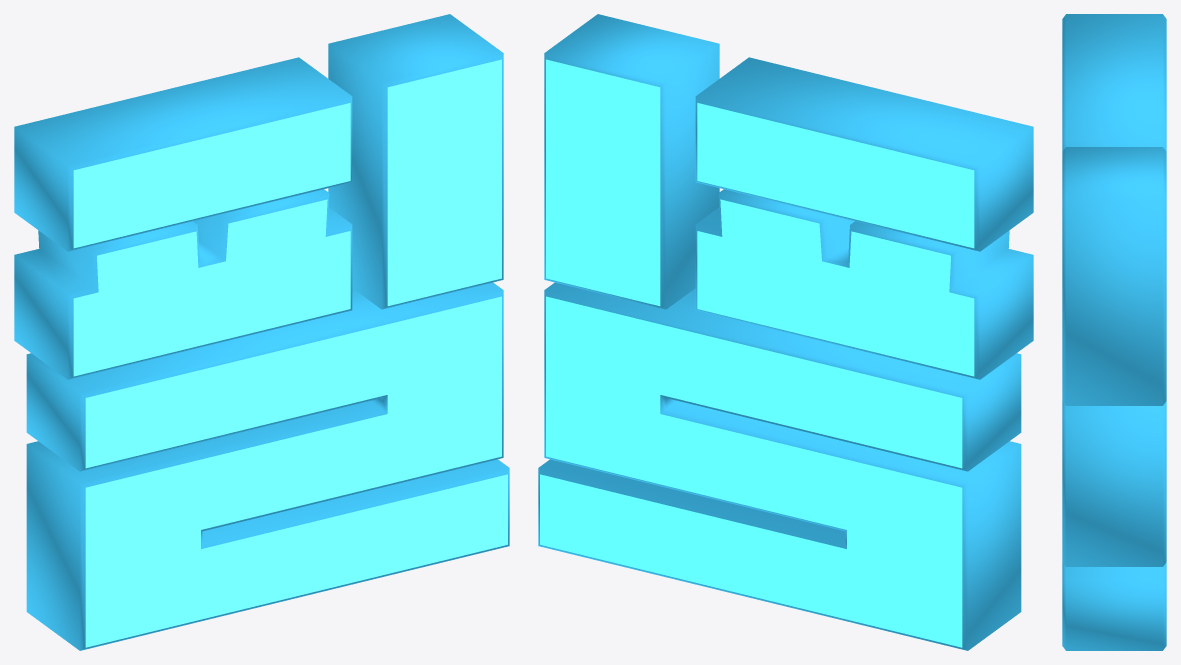
3 renders of one model, left to right at view 1: azimuth 30°, elevation 25°; view 2: azimuth 150°, elevation 25°; view 3: azimuth 270°, elevation 25°, orthographic. The views are drawn at different scales.
Parts seen in each view (by area): view 1: glyph; view 2: glyph; view 3: glyph.
Part boxes in pixels (bbox=[...]): glyph: bbox=[14, 14, 509, 650]; glyph: bbox=[538, 14, 1033, 650]; glyph: bbox=[1062, 14, 1166, 650].
Bounding box in the file's own units: 0.0716 × 0.0766 × 0.0162.
